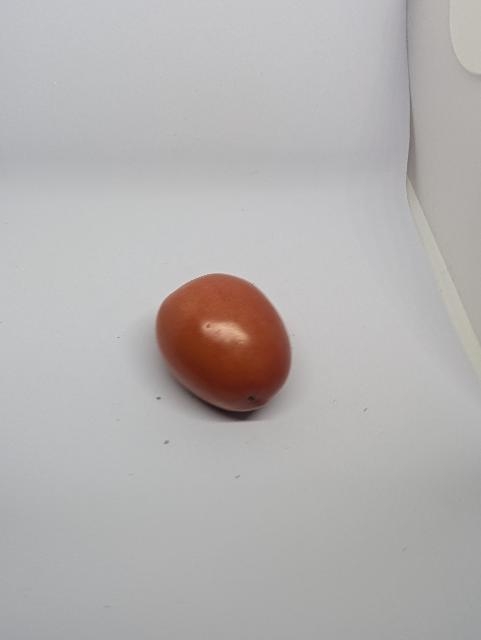red: (153, 271, 294, 417)
